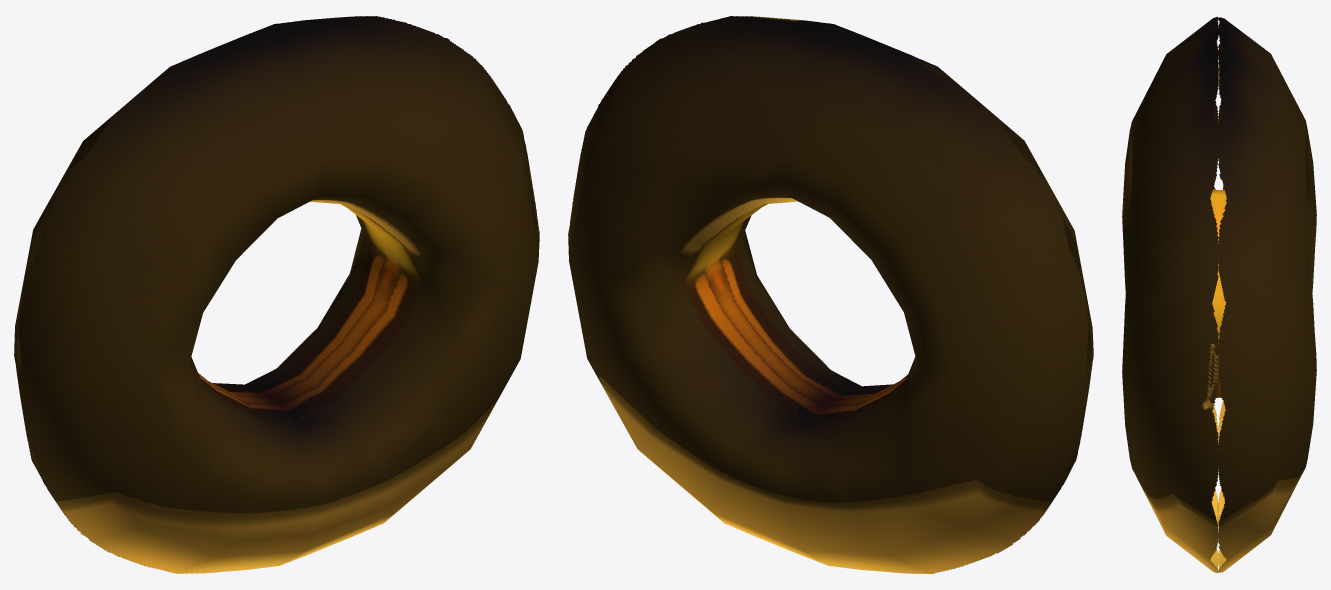
The model's file is gold.fbx.
3 views of the same model, side by side, from view 1: azimuth 30°, elevation 25°; view 2: azimuth 150°, elevation 25°; view 3: azimuth 270°, elevation 25° (orthographic). The views are drawn at different scales.
Visible parts, largest first — view 1: Cube_006; view 2: Cube_006; view 3: Cube_006.
Part boxes in pixels (left/top/right/bottom): Cube_006: left=14, top=16, right=539, bottom=573; Cube_006: left=568, top=16, right=1093, bottom=573; Cube_006: left=1122, top=16, right=1316, bottom=573.
Size of the model in its own units: 16.54 by 16.38 by 5.79.
Materials: 1 (1 with a texture image).
